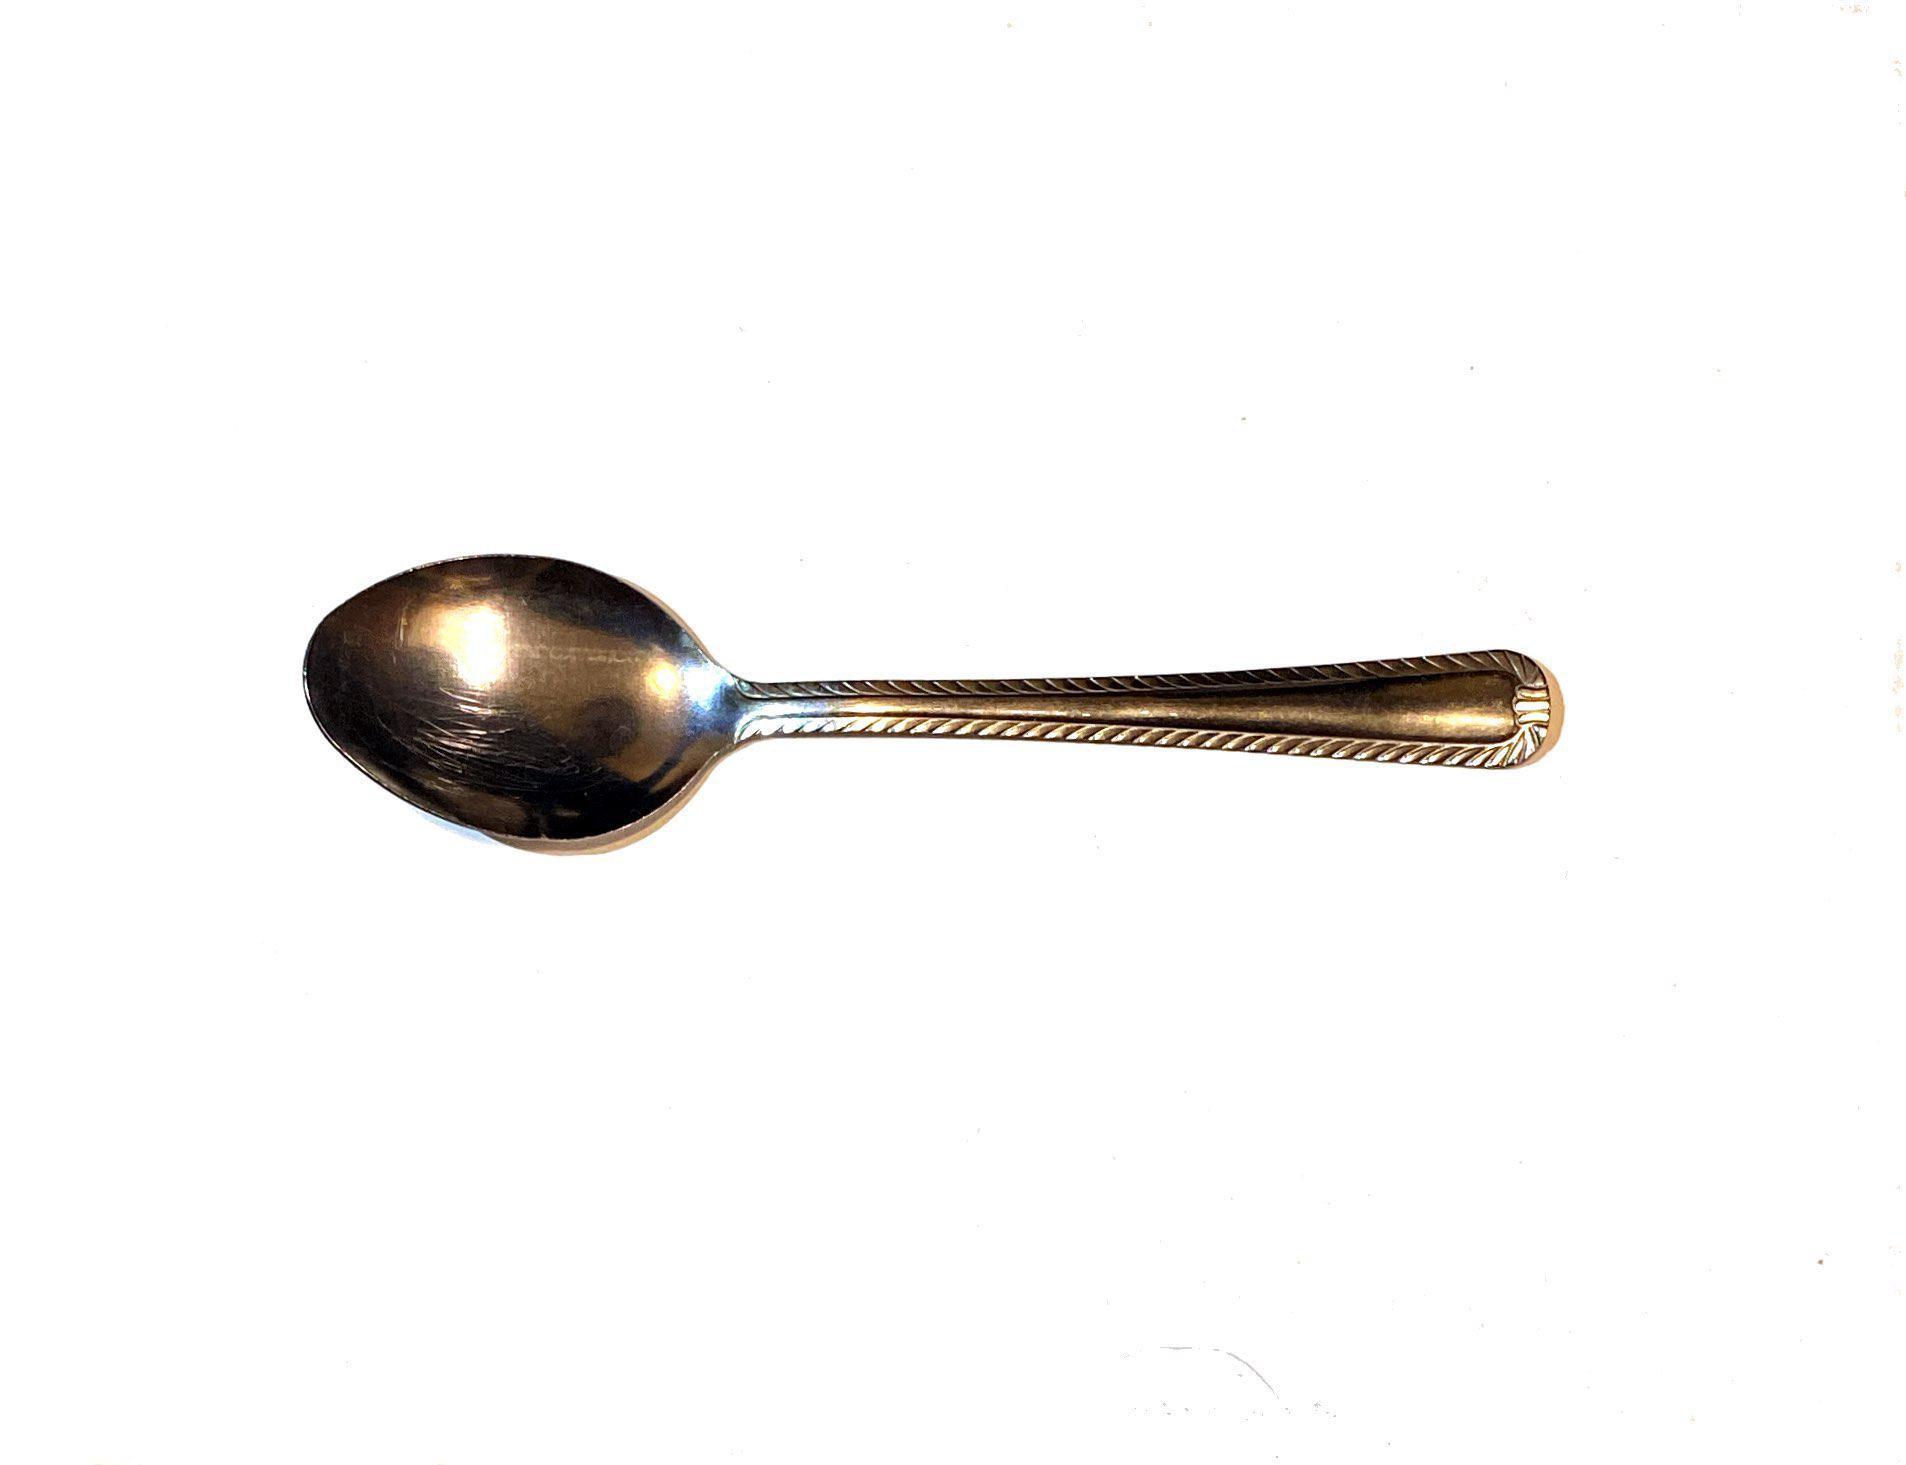Spoon: (255, 509, 1674, 956)
